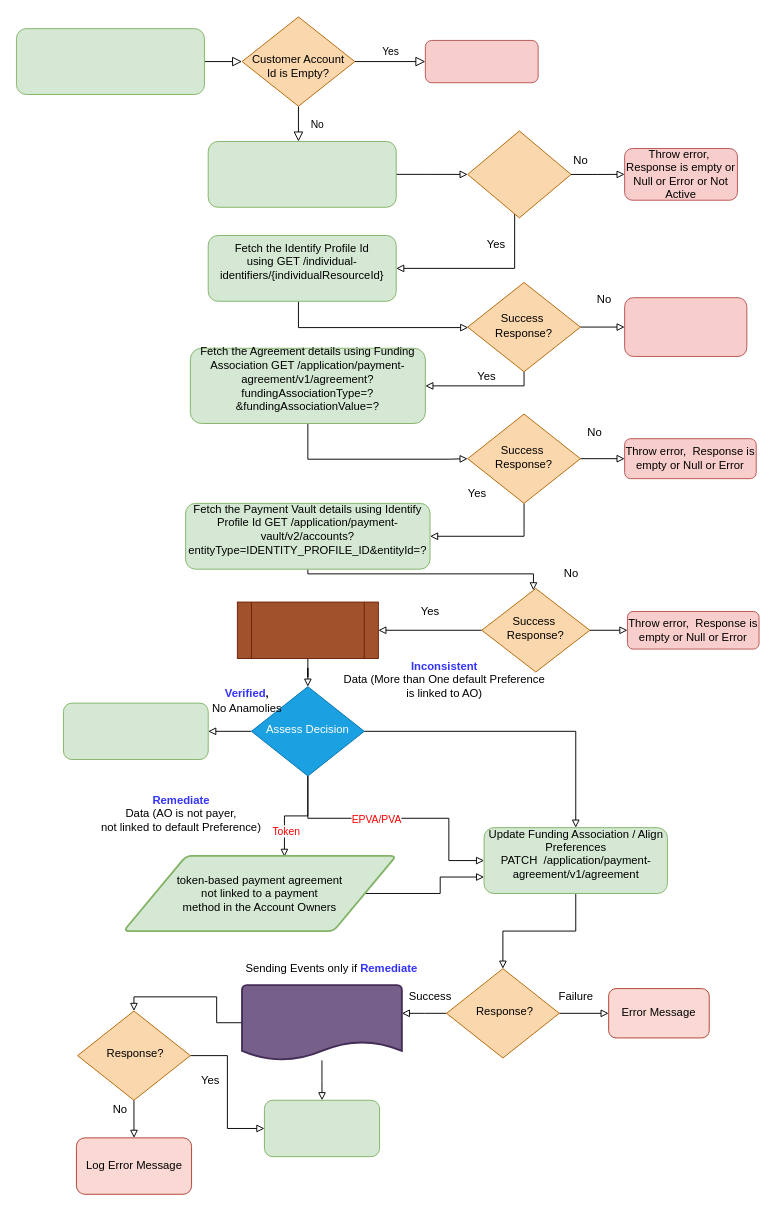
The diagram is 776 pixels wide and 1211 high, and some of its shapes have lost their labels. Each missing label, with the centre of its shape:
Access the Account Synchronization Process: (307,629)
Fetch the Invidial Customer Details GET /customer-accounts/{customerAccountUUID}: (301,174)
No Action, Throw, Message Account is already Synchronized. No Action: (135,731)
Payment Account Synchronsation POST /v1/payment/services/account-synchronisation: (110,61)
Send the API Success Message: (321,1128)
Send the updated details as events for both Inconsistent & Remediate operations.: (321,1022)
Success Response & Is Active == true?: (519,174)
Throw error, customer Account Id is missing: (481,61)
Throw error, Response is empty or Null or Not found Identify Profile Id: (685,326)
